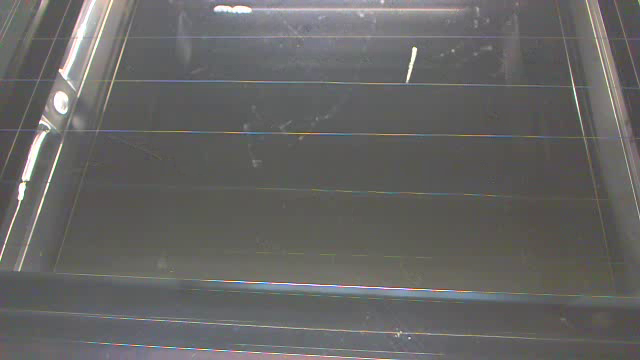alpha: (405, 45, 419, 87), (213, 3, 253, 17)
